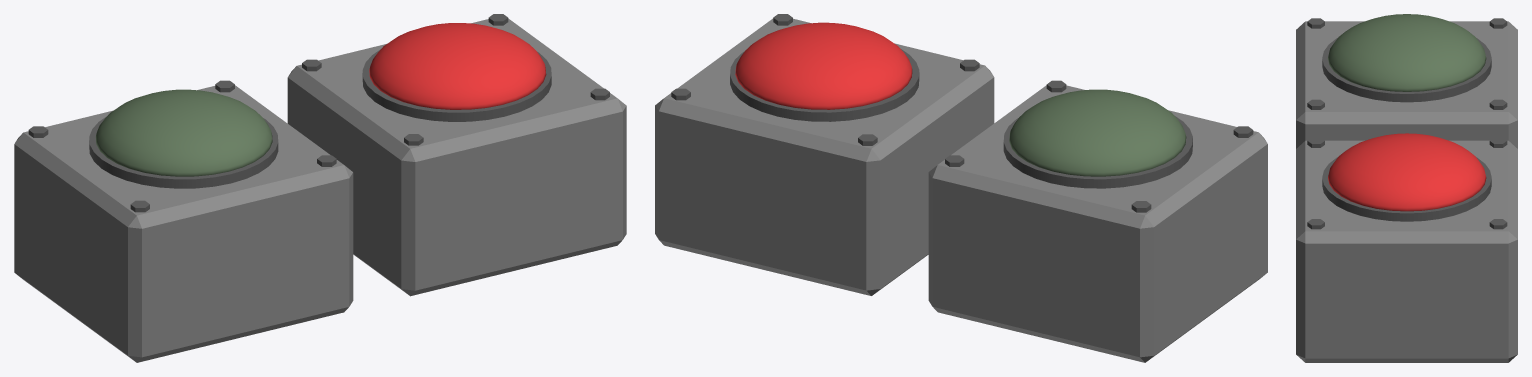
File: botones bj.fbx
3 views of the same model, side by side, from view 1: azimuth 30°, elevation 25°; view 2: azimuth 150°, elevation 25°; view 3: azimuth 270°, elevation 25° (orthographic). The views are drawn at different scales.
Visible parts, largest first — view 1: boton 1.001, boton 1, pulsador 1, pulsador 2; view 2: boton 1.001, boton 1, pulsador 1, pulsador 2; view 3: boton 1, boton 1.001, pulsador 2, pulsador 1.
Boxes of the visible parts, x1,y1,x2,y2 form: boton 1.001: (14, 80, 353, 362); boton 1: (287, 14, 626, 296); pulsador 1: (95, 89, 272, 176); pulsador 2: (369, 23, 546, 109); boton 1.001: (928, 80, 1267, 362); boton 1: (655, 14, 994, 295); pulsador 1: (1009, 89, 1186, 176); pulsador 2: (735, 22, 912, 109); boton 1: (1296, 137, 1517, 362); boton 1.001: (1296, 18, 1517, 148); pulsador 2: (1328, 133, 1486, 211); pulsador 1: (1328, 14, 1486, 91).
Bounding box in the file's own units: 465 × 170 × 200.
